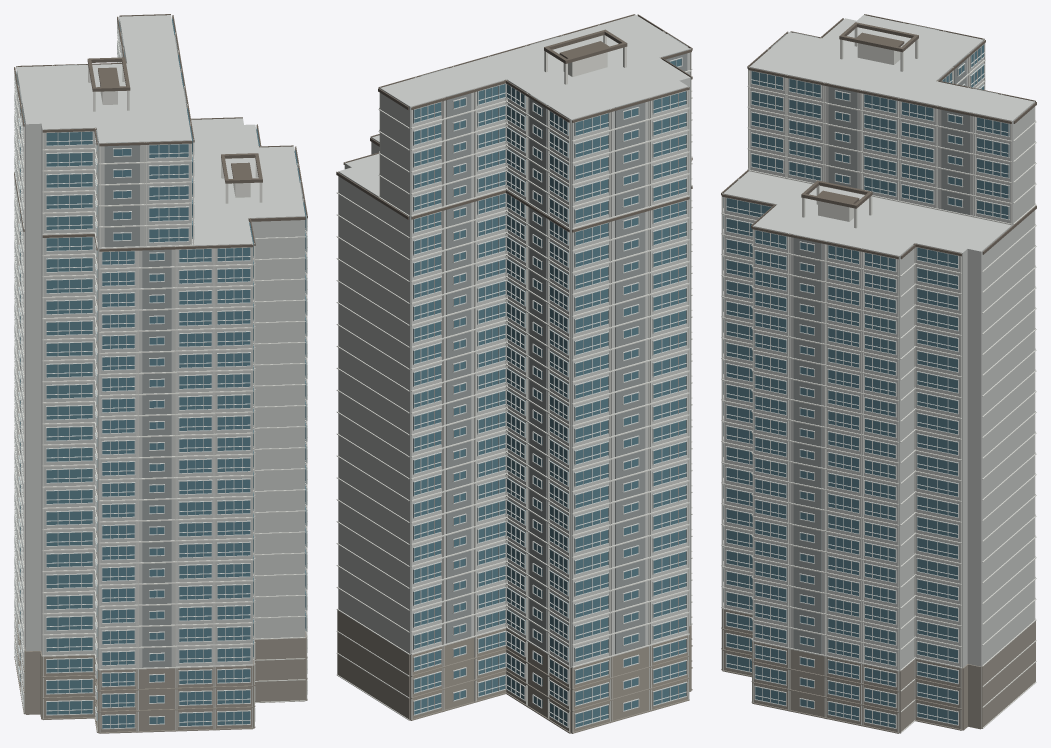
The model's file is bespoke-banpo-xi-112.glb.
3 renders of one model, left to right at view 1: azimuth 30°, elevation 25°; view 2: azimuth 150°, elevation 25°; view 3: azimuth 270°, elevation 25°, orthographic. The views are drawn at different scales.
Visible parts, largest first — view 1: BX112_editable_BX112_pale_silver_limestone, BX112_editable_BX112_blue_grey_broad_glazing, BX112_editable_BX112_white_window_frames, BX112_editable_BX112_ivory_course_bands, BX112_editable_BX112_grey_service_core, BX112_editable_BX112_warm_ground_stone, BX112_editable_BX112_dark_coping; view 2: BX112_editable_BX112_pale_silver_limestone, BX112_editable_BX112_blue_grey_broad_glazing, BX112_editable_BX112_white_window_frames, BX112_editable_BX112_ivory_course_bands, BX112_editable_BX112_grey_service_core, BX112_editable_BX112_warm_ground_stone, BX112_editable_BX112_dark_coping; view 3: BX112_editable_BX112_pale_silver_limestone, BX112_editable_BX112_blue_grey_broad_glazing, BX112_editable_BX112_white_window_frames, BX112_editable_BX112_ivory_course_bands, BX112_editable_BX112_grey_service_core, BX112_editable_BX112_warm_ground_stone, BX112_editable_BX112_dark_coping.
Boxes of the visible parts, box(x1,y1,x2,y2) form: BX112_editable_BX112_pale_silver_limestone: box(16, 15, 305, 669); BX112_editable_BX112_blue_grey_broad_glazing: box(16, 18, 306, 728); BX112_editable_BX112_white_window_frames: box(14, 20, 307, 729); BX112_editable_BX112_ivory_course_bands: box(14, 15, 307, 732); BX112_editable_BX112_grey_service_core: box(19, 34, 303, 667); BX112_editable_BX112_warm_ground_stone: box(14, 614, 307, 733); BX112_editable_BX112_dark_coping: box(14, 14, 307, 251); BX112_editable_BX112_pale_silver_limestone: box(338, 15, 690, 732); BX112_editable_BX112_blue_grey_broad_glazing: box(413, 58, 686, 727); BX112_editable_BX112_white_window_frames: box(413, 57, 687, 728); BX112_editable_BX112_ivory_course_bands: box(336, 14, 692, 732); BX112_editable_BX112_grey_service_core: box(421, 33, 687, 654); BX112_editable_BX112_warm_ground_stone: box(337, 610, 692, 733); BX112_editable_BX112_dark_coping: box(336, 14, 692, 232); BX112_editable_BX112_pale_silver_limestone: box(723, 15, 1034, 732); BX112_editable_BX112_blue_grey_broad_glazing: box(723, 45, 1009, 727); BX112_editable_BX112_white_window_frames: box(723, 43, 1009, 728); BX112_editable_BX112_ivory_course_bands: box(721, 14, 1036, 732); BX112_editable_BX112_grey_service_core: box(771, 24, 997, 654); BX112_editable_BX112_warm_ground_stone: box(721, 608, 1035, 733); BX112_editable_BX112_dark_coping: box(721, 14, 1036, 259).
Bounding box in the file's own units: 39.22 × 79.3 × 37.6.
